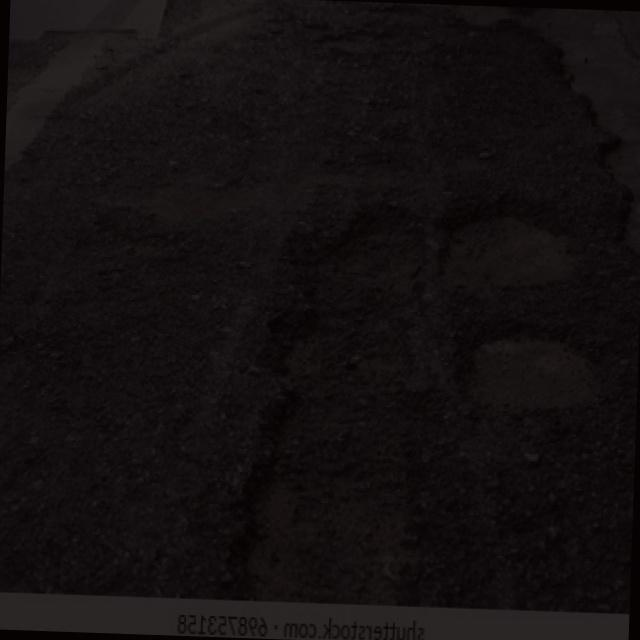Pothole: (216, 198, 450, 606), (444, 310, 627, 424), (425, 198, 599, 297)
